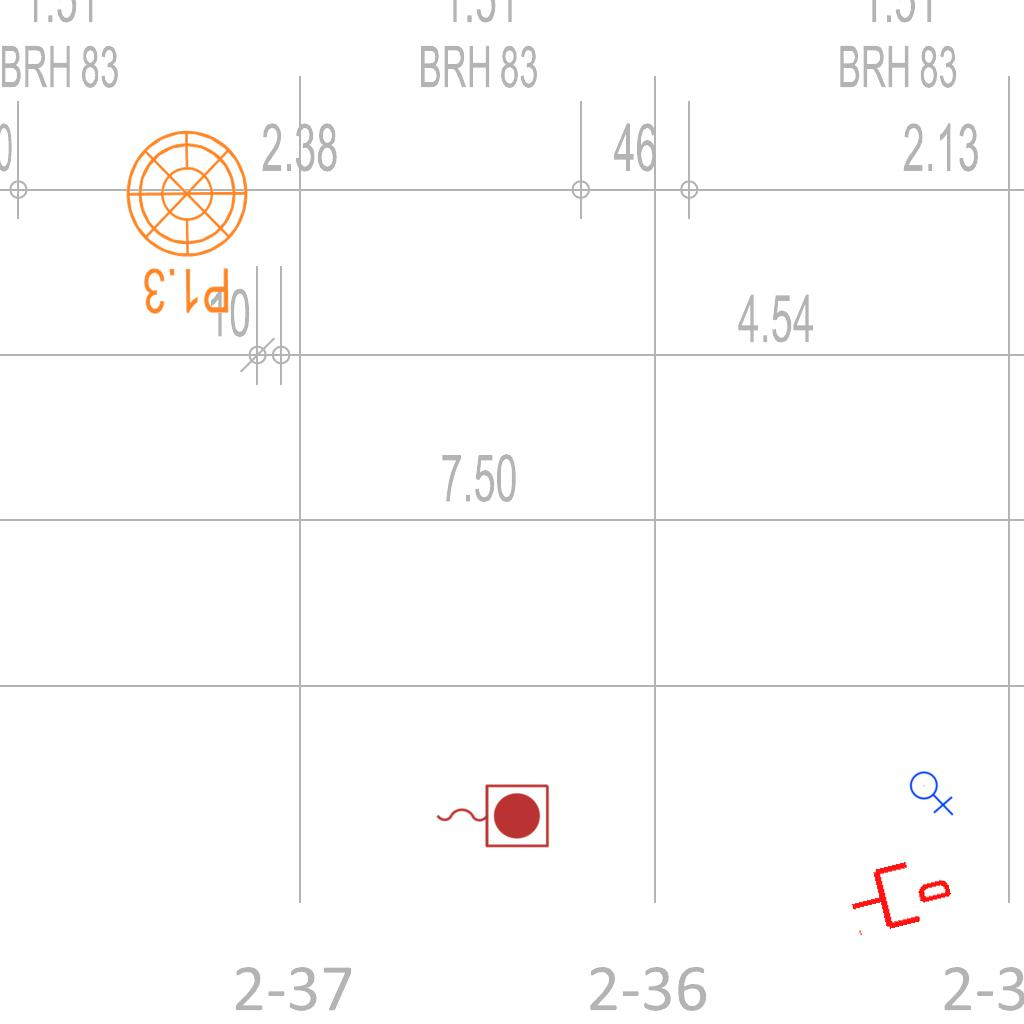Aufbaurundleuchte_LED_Treppenhaus: (112, 127, 251, 332)
Datenanschluss_einfach: (842, 849, 957, 941)
Elektroanschluss_allgemein_230V_Geraeteanschlussdose_230V: (908, 766, 957, 817)
Zugtaster: (431, 779, 553, 851)
